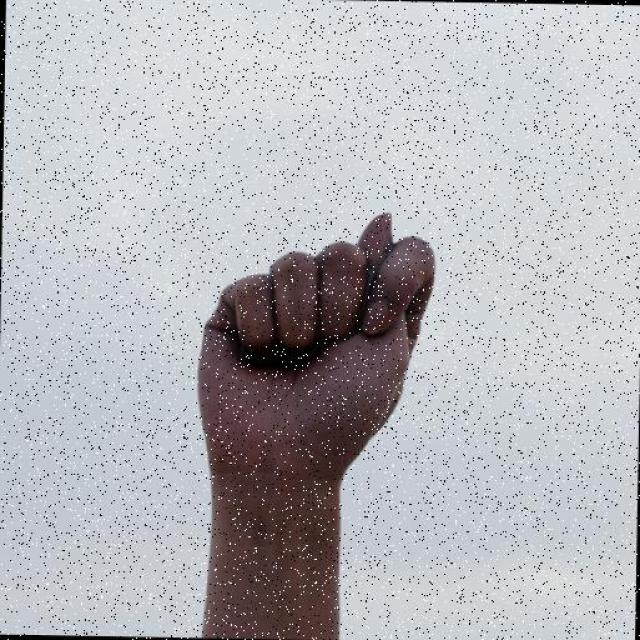T: (190, 202, 443, 480)
